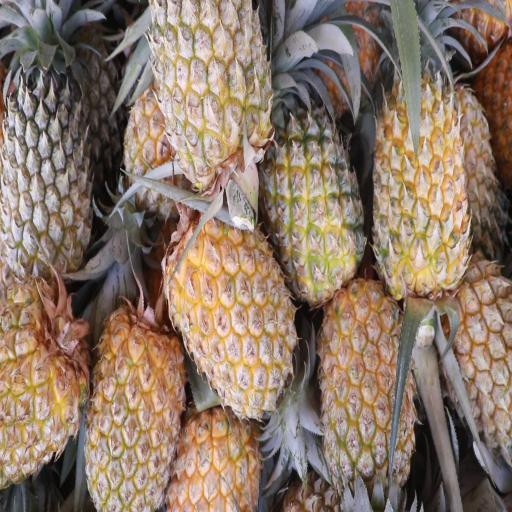------------------------------: (256, 63, 367, 302), (144, 0, 274, 190)
Pineapple - v8 v1: (157, 184, 298, 413), (364, 4, 470, 296), (83, 265, 188, 512), (316, 261, 418, 512), (0, 250, 88, 480), (435, 218, 512, 450), (162, 369, 266, 512)
